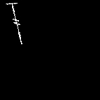treble_crochet: (9, 3, 21, 43)
